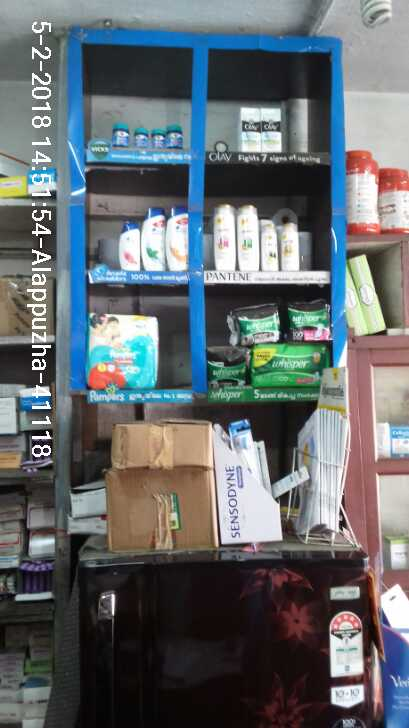vicks: (107, 117, 190, 155)
